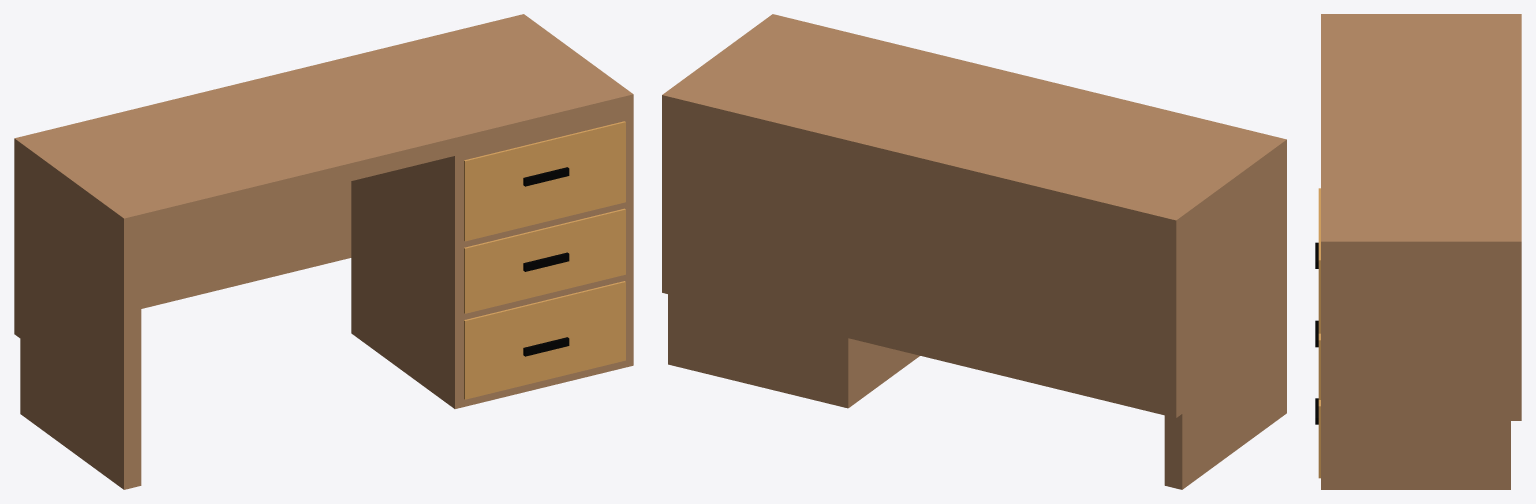
File: bureau1.fbx
The picture shows the model from 3 angles, left to right: view 1: azimuth 30°, elevation 25°; view 2: azimuth 150°, elevation 25°; view 3: azimuth 270°, elevation 25°; orthographic projection. The views are drawn at different scales.
Parts seen in each view (by area): view 1: Cube.004; view 2: Cube.004; view 3: Cube.004.
Boxes of the visible parts, left/top/right/bottom form: Cube.004: left=14, top=14, right=633, bottom=489; Cube.004: left=662, top=14, right=1286, bottom=489; Cube.004: left=1315, top=14, right=1521, bottom=489.
Size of the model in its own units: 600 by 305 by 230.
